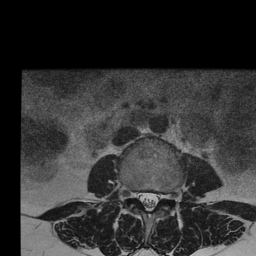CCS_normal: (146, 185, 153, 223)
LFS_stenosis: (161, 183, 169, 207)
LLS_normal: (153, 184, 161, 213)
RFS_stenosis: (128, 181, 137, 207)
RLS_normal: (138, 184, 146, 212)
